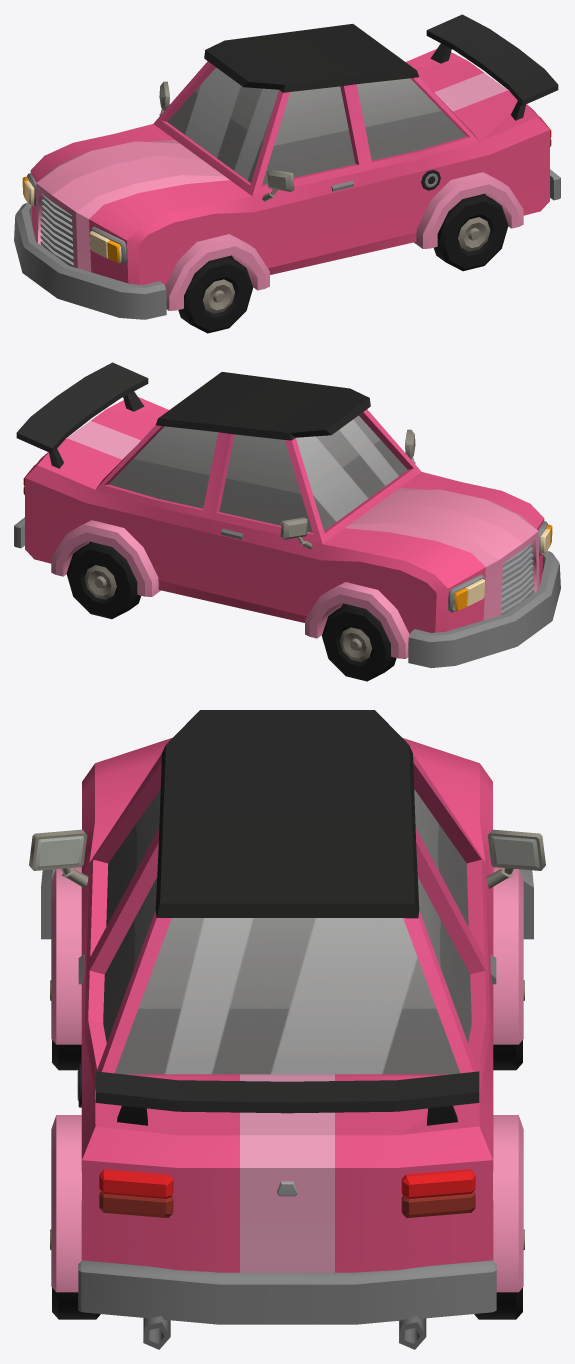
The model's file is Car_1_A.gltf.
The picture shows the model from 3 angles, top to bottom: view 1: azimuth 30°, elevation 25°; view 2: azimuth 150°, elevation 25°; view 3: azimuth 270°, elevation 25°; orthographic projection. The views are drawn at different scales.
Parts seen in each view (by area): view 1: Car_1_A, RL, FL; view 2: Car_1_A, RR, FR; view 3: Car_1_A, RL, RR, FR, FL.
Part boxes in pixels (x1=…): Car_1_A: x1=14, y1=14, x2=560, y2=319; RL: x1=434, y1=194, x2=508, y2=271; FL: x1=178, y1=256, x2=252, y2=333; Car_1_A: x1=14, y1=362, x2=560, y2=668; RR: x1=66, y1=542, x2=140, y2=619; FR: x1=322, y1=604, x2=396, y2=681; Car_1_A: x1=29, y1=710, x2=545, y2=1349; RL: x1=50, y1=1229, x2=100, y2=1319; RR: x1=474, y1=1229, x2=524, y2=1319; FR: x1=493, y1=980, x2=524, y2=1070; FL: x1=50, y1=980, x2=81, y2=1070.
Bounding box in the file's own units: 3.64 × 1.5 × 1.7.
Materials: 4 (4 with a texture image).
